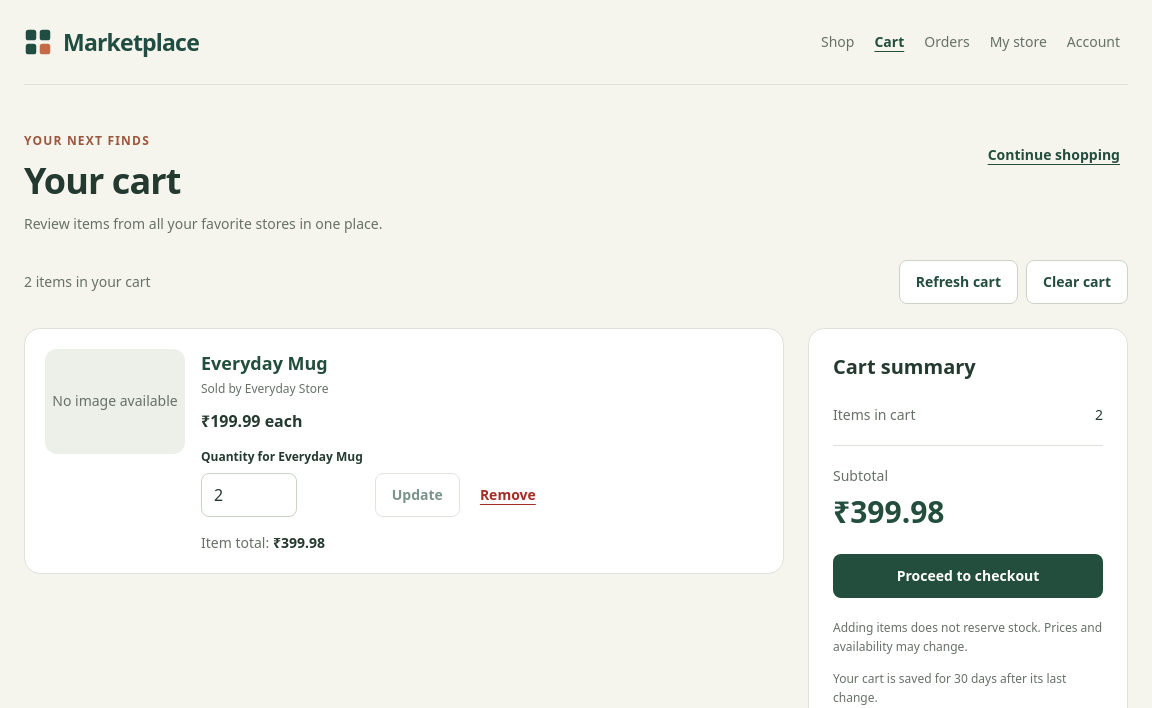
updating quantity sends the cart revision and renders the returned totals
Expected: the text "2 items in your cart" is shown, [24,272,151,292]
Replace the text in the number field labelled "Quantity for Everyday Mug" with "3" at (249, 495), box [201,473,297,517]
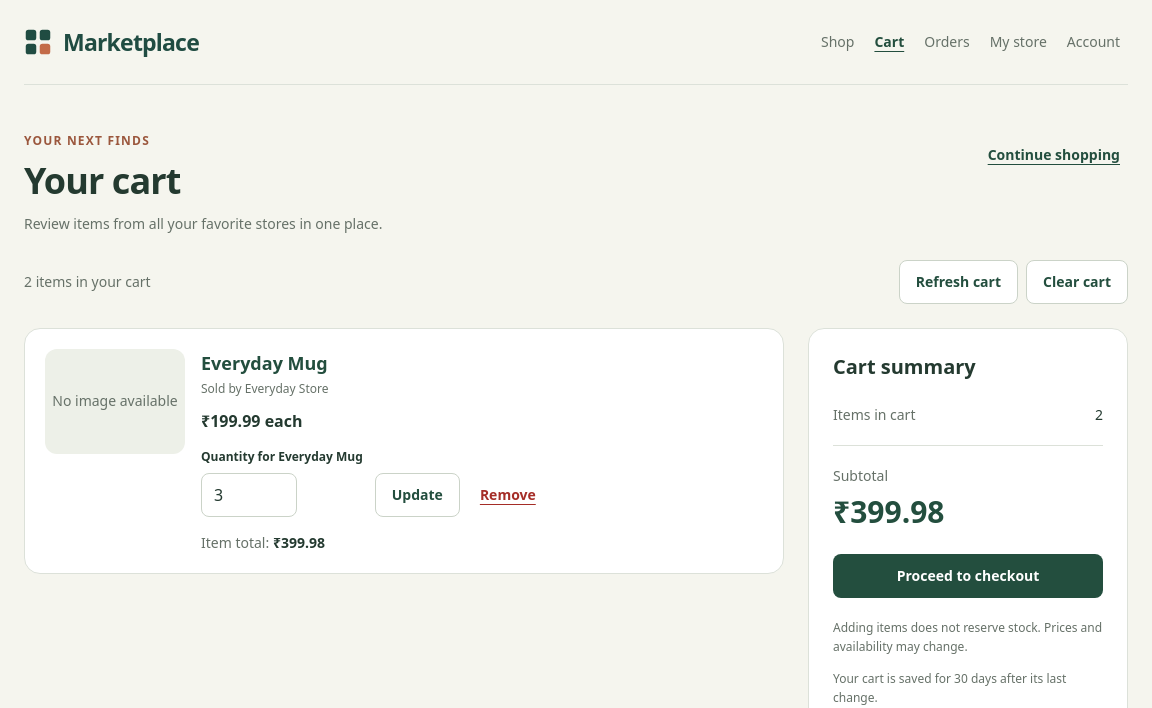
Click the button "Update" at (417, 495), box [375,473,460,517]
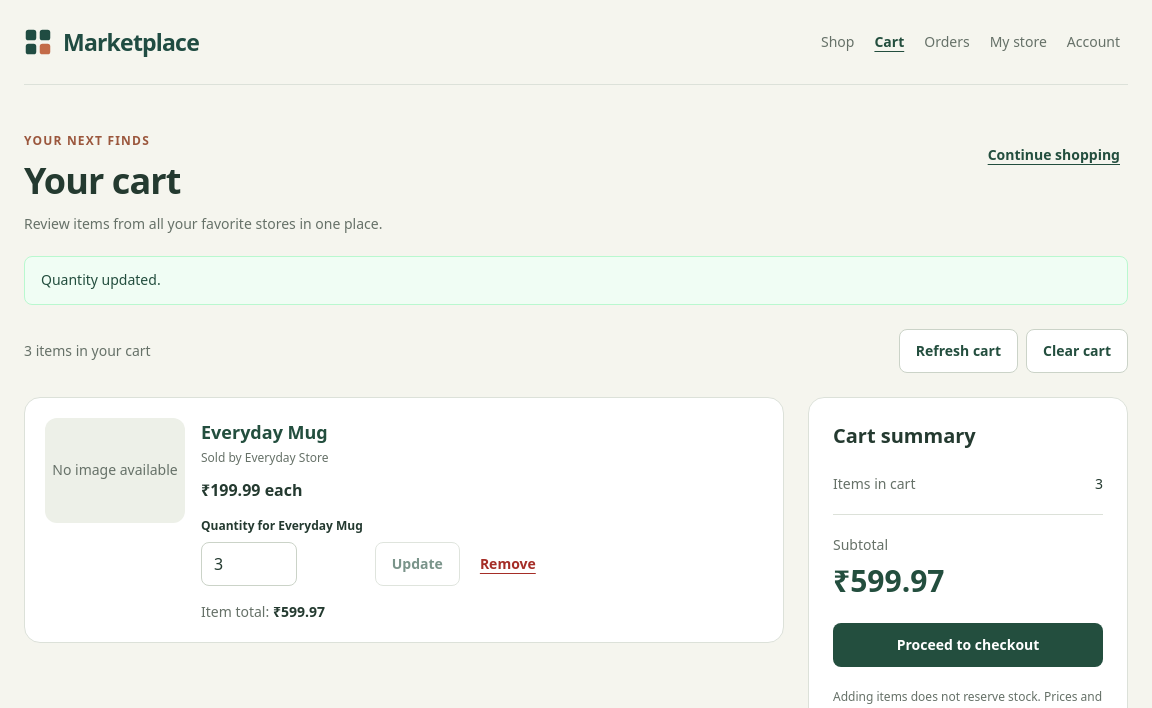
Now the text "3 items in your cart" is shown, box [24,340,151,360]
Now the text "₹599.97" below "Subtotal" is shown, box [833,560,944,600]
